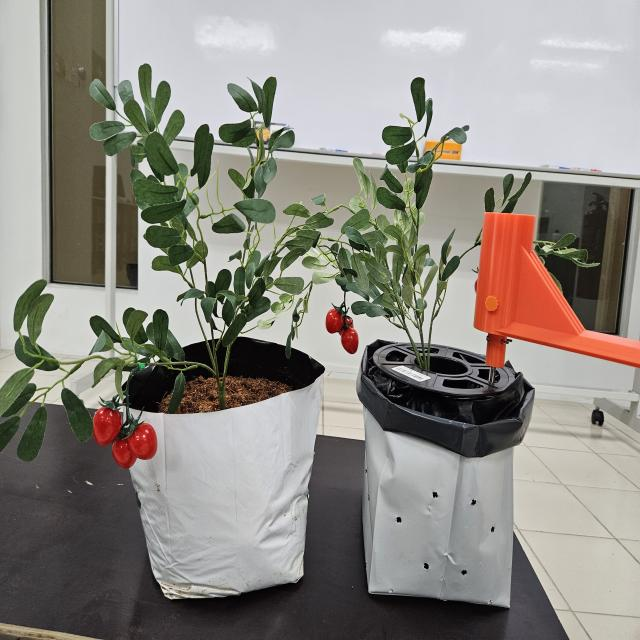EndEffector: (473, 212, 640, 386)
Soilbag: (128, 337, 325, 601)
Tomato: (93, 409, 159, 473), (325, 300, 359, 353)
plant: (0, 64, 318, 465), (311, 77, 484, 356)
